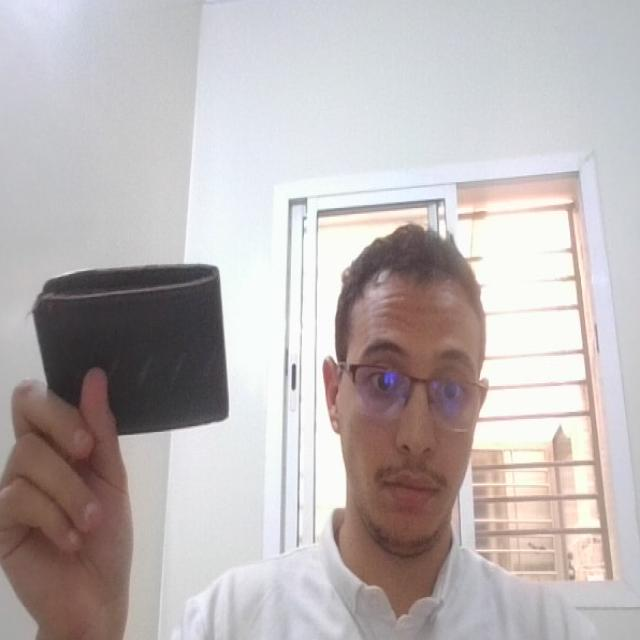wallet: (34, 256, 235, 444)
